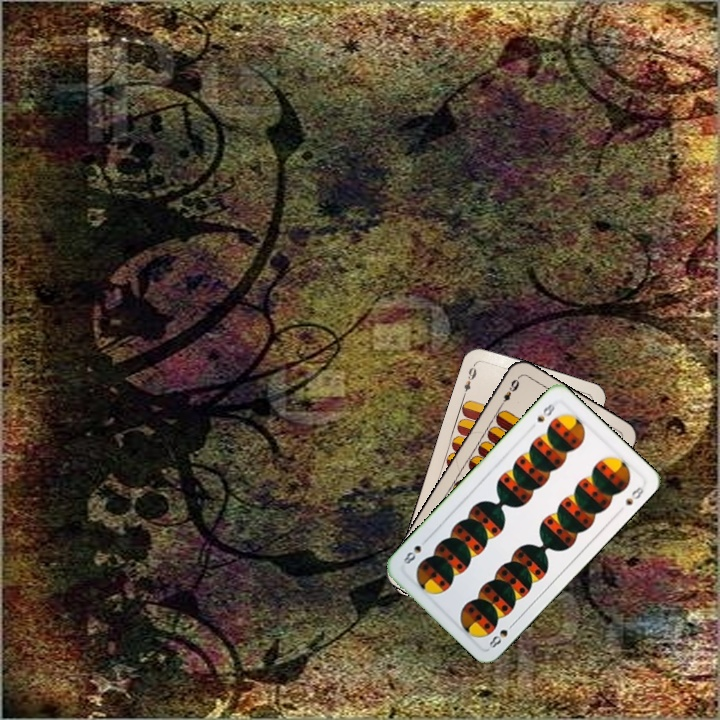E9: (495, 373, 522, 410), (459, 360, 479, 399)
S8: (485, 618, 518, 651), (533, 397, 558, 424)
